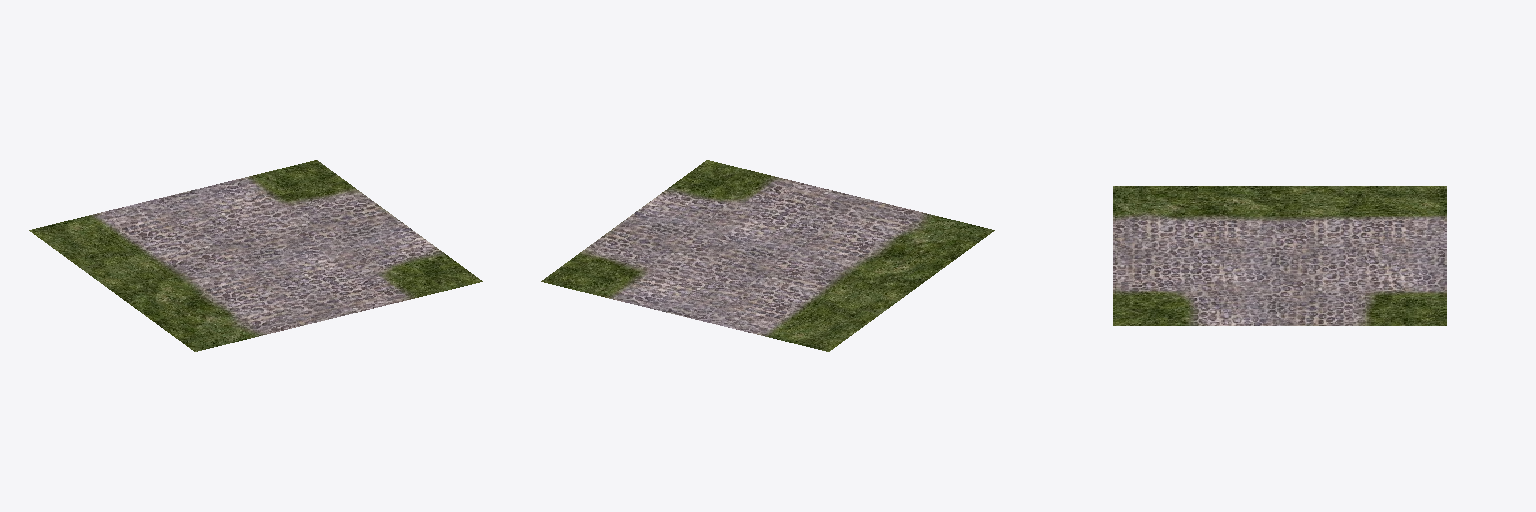
3 renders of one model, left to right at view 1: azimuth 30°, elevation 25°; view 2: azimuth 150°, elevation 25°; view 3: azimuth 270°, elevation 25°, orthographic.
Visible parts, largest first — view 1: mudgrass; view 2: mudgrass; view 3: mudgrass.
Boxes of the visible parts, x1=… form: mudgrass: x1=29, y1=160, x2=482, y2=351; mudgrass: x1=541, y1=160, x2=994, y2=351; mudgrass: x1=1113, y1=186, x2=1446, y2=325.
Bounding box in the file's own units: 76 × 0 × 76.
1 materials, 1 textured.